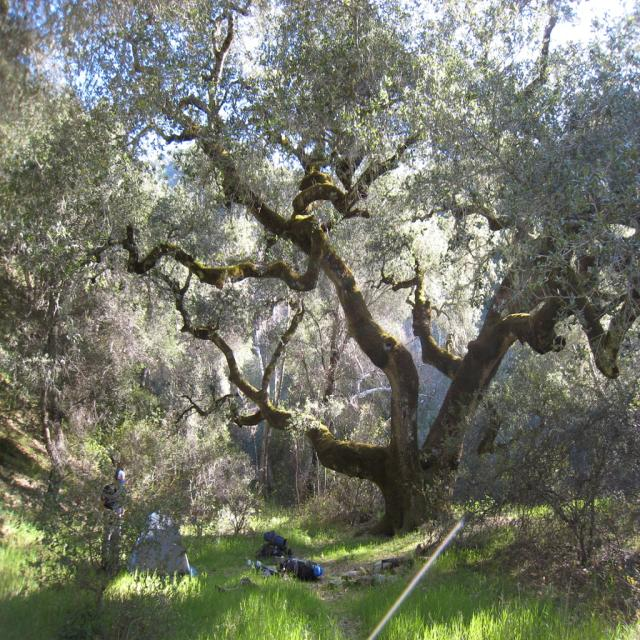Quercus chrysolepis: (20, 0, 640, 519)
